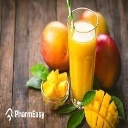mango: (41, 21, 69, 69)
